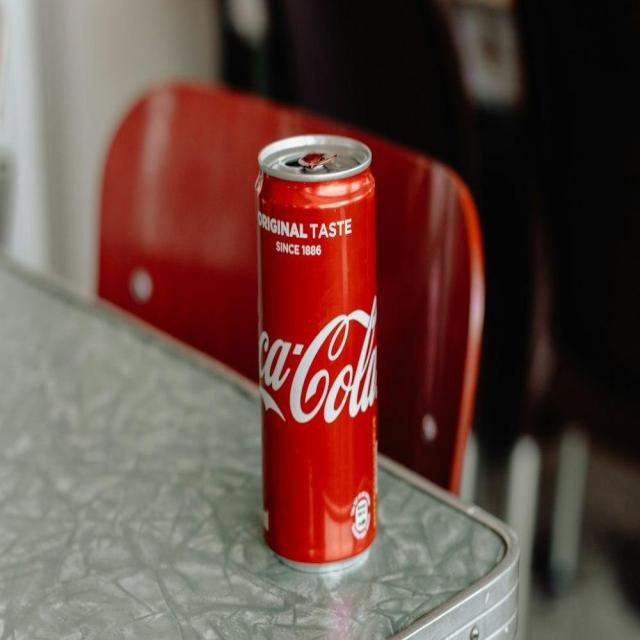can: (255, 135, 378, 572)
